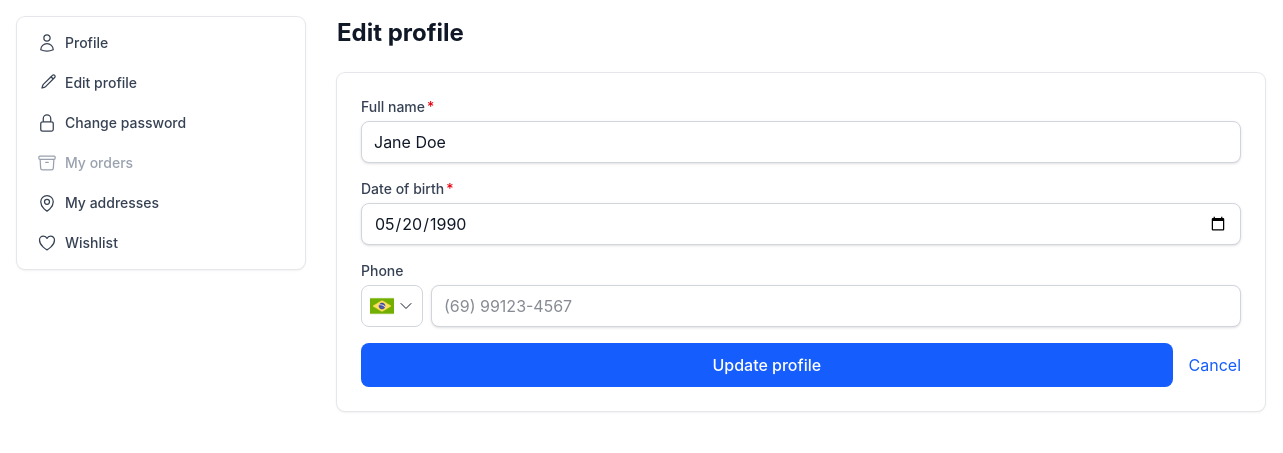
Test: ProfileEditPage › shows a field-level error next to the corresponding input and preserves other values
Replace the text in the field labelled "Full name*" with "Ab" at (801, 142), box [361, 121, 1241, 163]
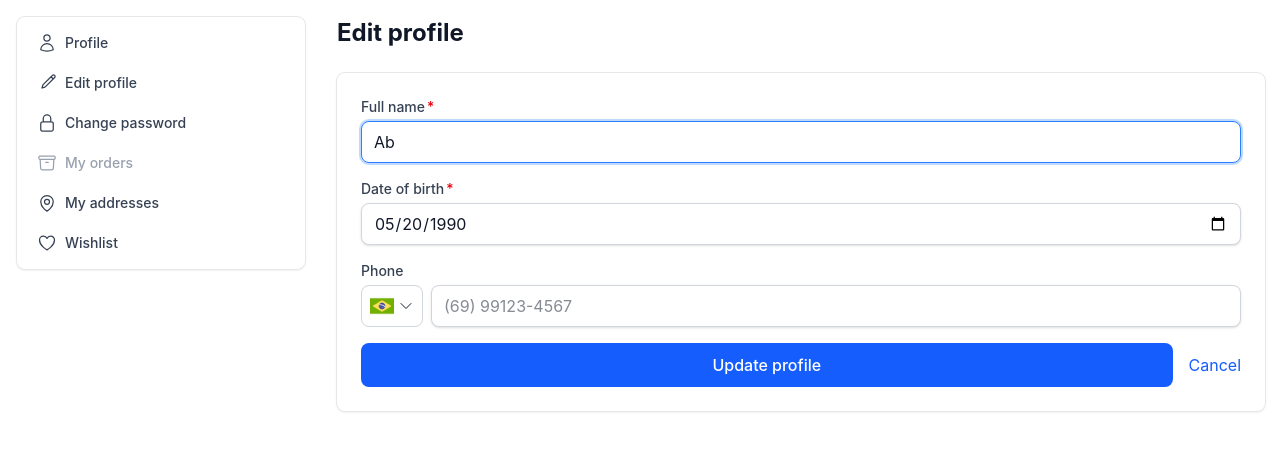
Click the button "Update profile".
click(767, 365)  # box [361, 343, 1172, 387]
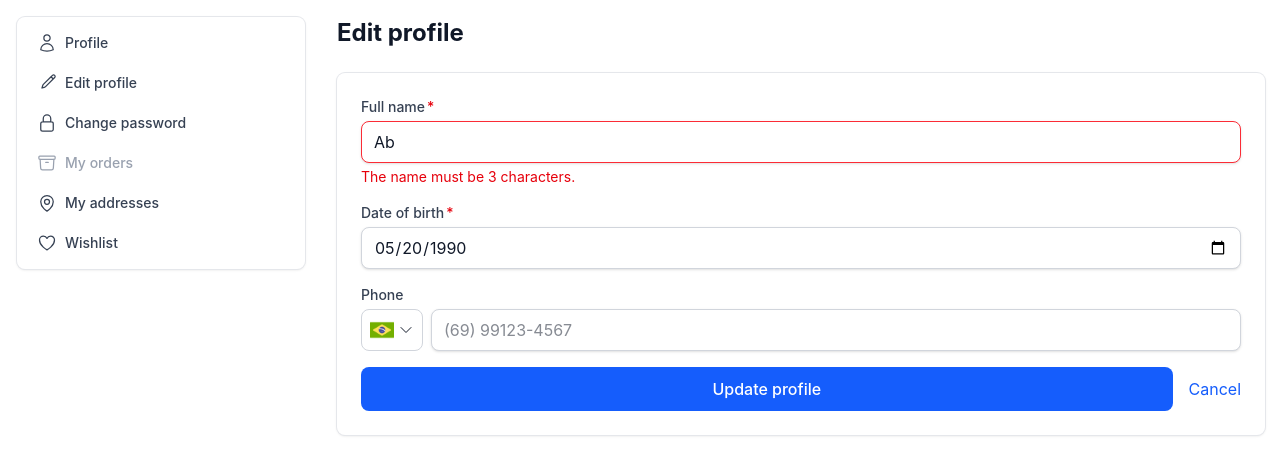
Check: the text "The name must be 3 characters." is shown, box [361, 168, 575, 185]
